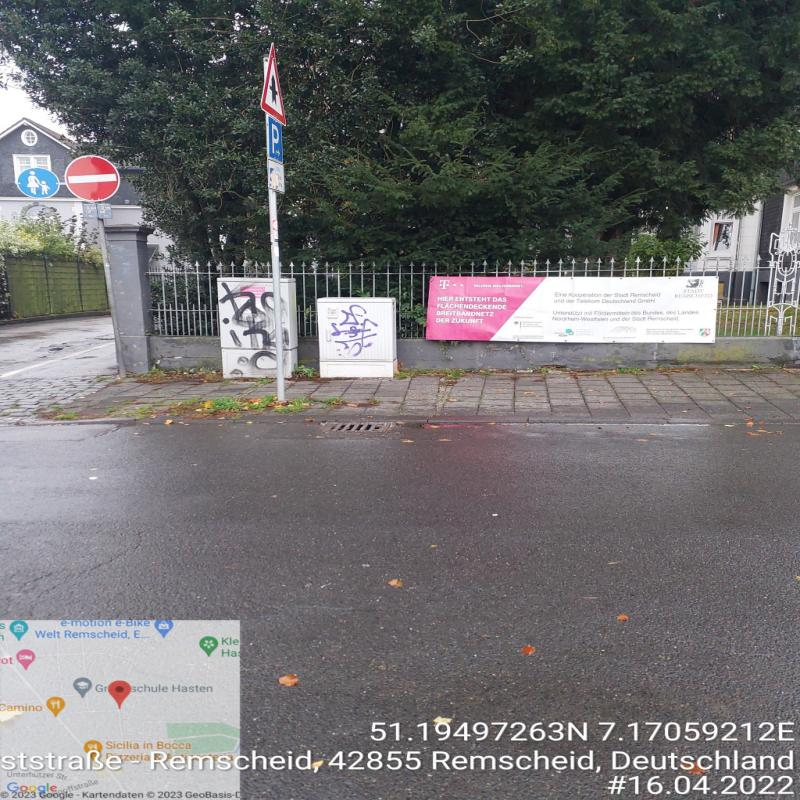Banner: (430, 277, 715, 342)
NT-Gehause: (219, 279, 297, 378), (318, 297, 396, 379)
Steaker: (239, 286, 265, 314)
